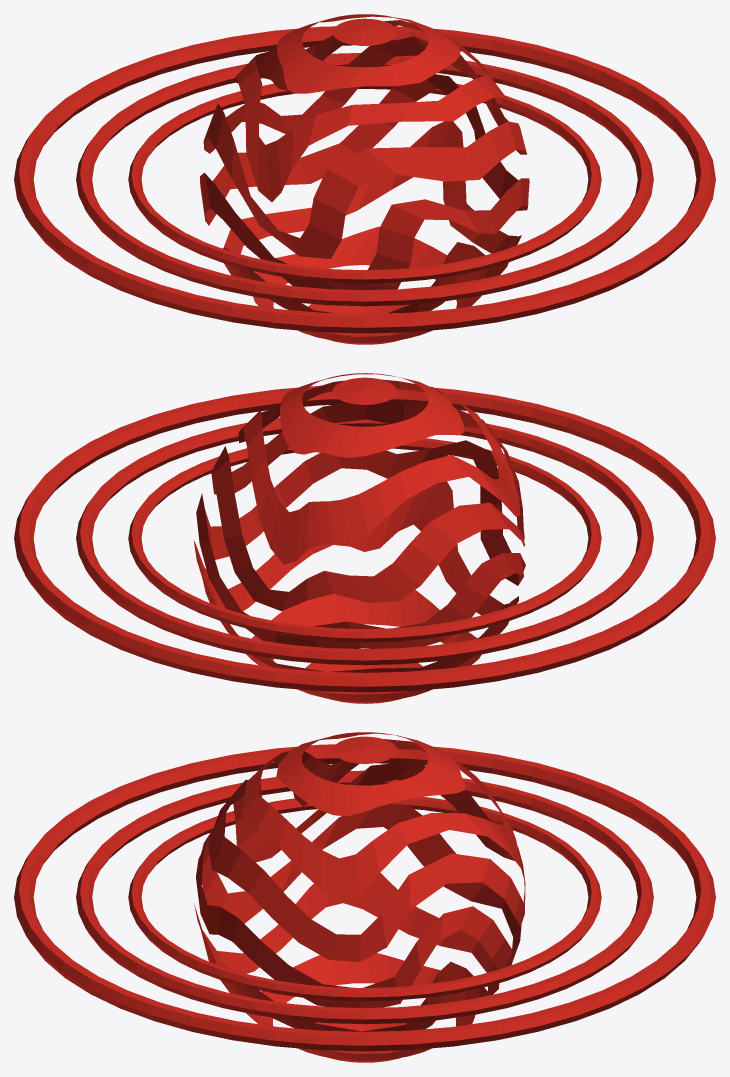
Rendered from Abstract Sphere Red.fbx.
3 renders of one model, top to bottom at view 1: azimuth 30°, elevation 25°; view 2: azimuth 150°, elevation 25°; view 3: azimuth 270°, elevation 25°, orthographic.
Visible parts, largest first — view 1: Sphere, Torus.002, Torus.001, Torus; view 2: Sphere, Torus.002, Torus.001, Torus; view 3: Sphere, Torus.002, Torus.001, Torus.
Part boxes in pixels (<box>): Sphere: <box>200,14,529,344</box>; Torus.002: <box>14,26,715,333</box>; Torus.001: <box>76,53,653,306</box>; Torus: <box>128,83,601,283</box>; Sphere: <box>193,373,525,703</box>; Torus.002: <box>14,385,715,692</box>; Torus.001: <box>76,417,653,665</box>; Torus: <box>128,438,601,642</box>; Sphere: <box>194,732,525,1062</box>; Torus.002: <box>14,744,715,1051</box>; Torus.001: <box>76,770,653,1024</box>; Torus: <box>128,797,601,1001</box>.
Bounding box in the file's own units: 424 × 200 × 424.
